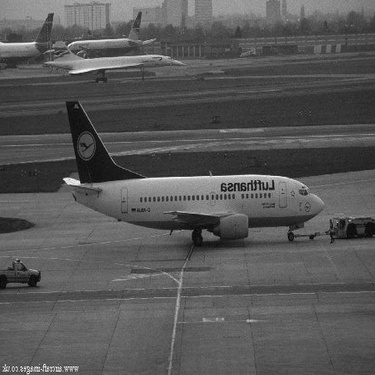airplane: (41, 89, 333, 247), (50, 39, 192, 88), (55, 6, 161, 53), (1, 15, 63, 65)
